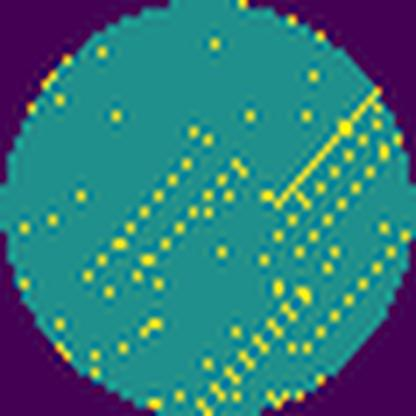Scratch: (192, 284, 318, 416), (79, 152, 196, 287), (130, 156, 248, 288), (293, 136, 402, 266), (272, 86, 382, 210), (298, 238, 404, 356)
